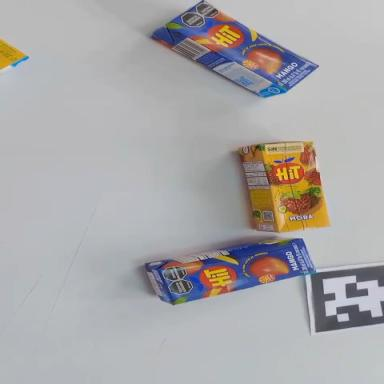HIT-MANGO: (150, 0, 318, 118), (145, 227, 315, 309)
HIT-MORA: (239, 136, 330, 237), (0, 39, 29, 80)
cara_F: (166, 0, 320, 100), (160, 236, 317, 307), (261, 135, 331, 236), (0, 38, 27, 70)
